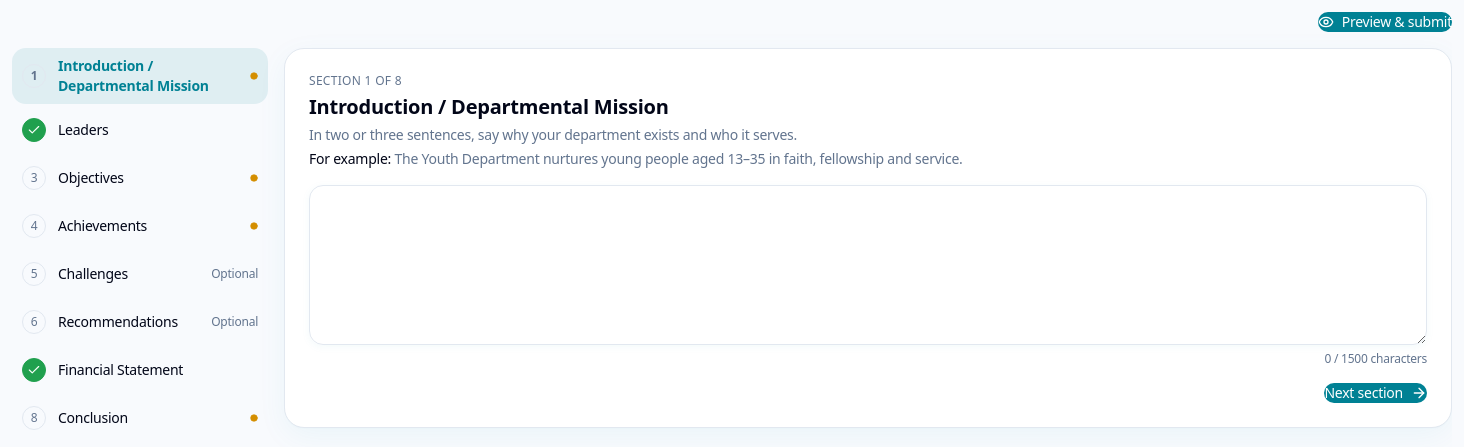
leaders › says a name is required once the field is left empty
Click the button "Leaders" at (140, 130), box [12,108,268,152]
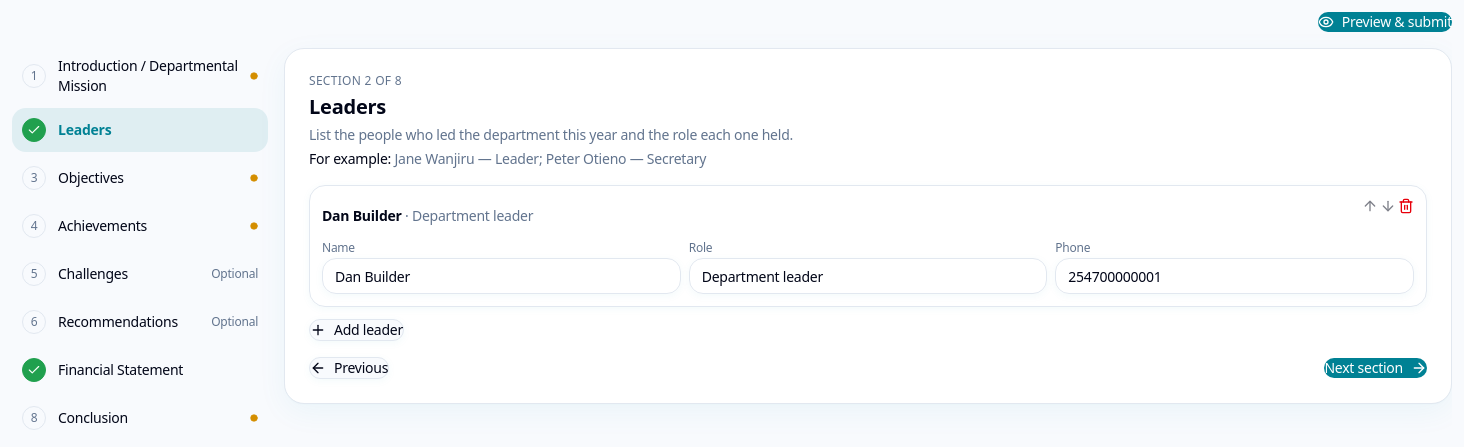
Clear the field named "Leader 1 Name" at (501, 276), box [322,258,681,294]
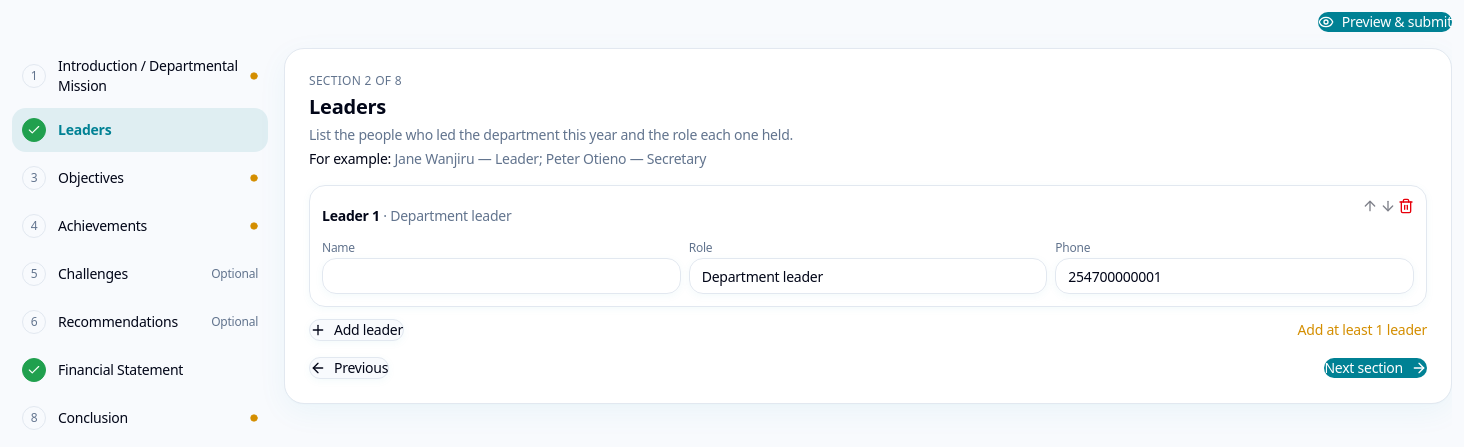
Leave the field named "Leader 1 Name", box [322,258,681,294]
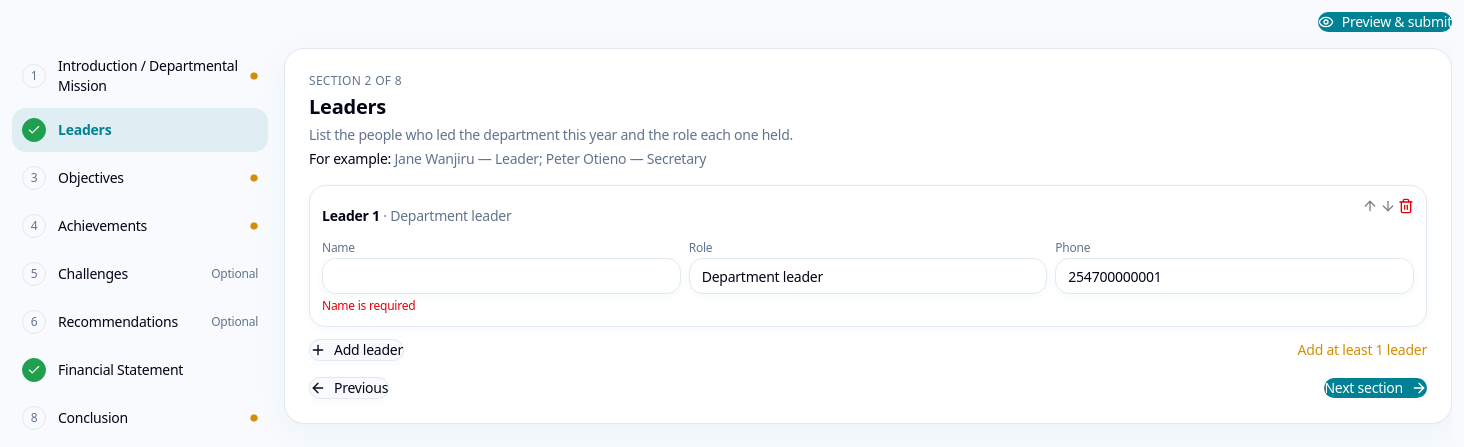
Check: the message reads "Name is required", box [322,297,415,314]
